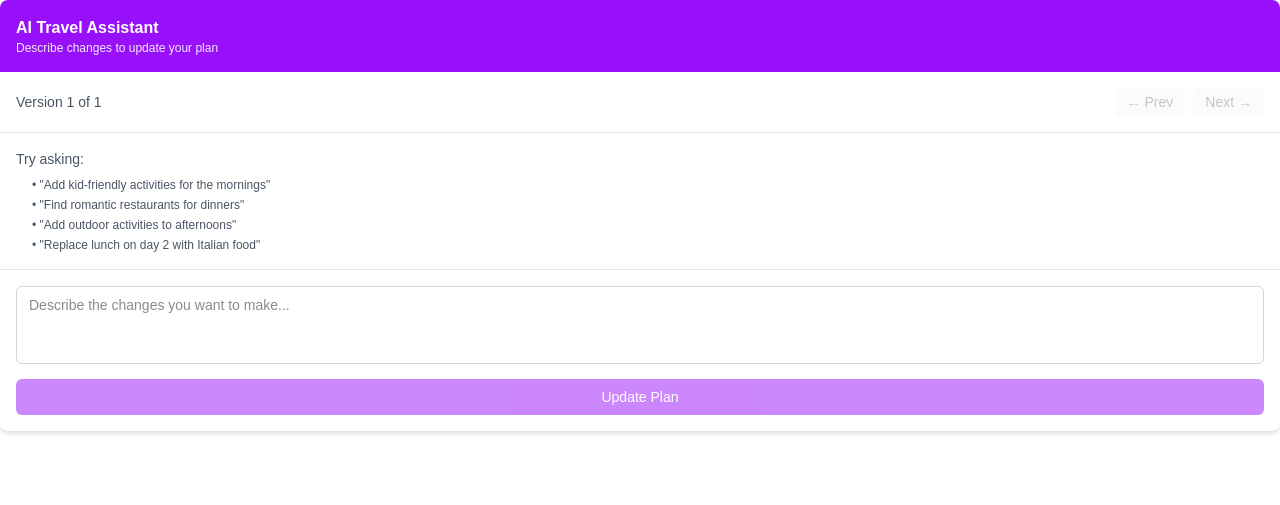
PlanModifier › submits modification request and shows success summary
The width and height of the screenshot is (1280, 505).
Step 1. Type "Add kid-friendly activities to mornings" into the text box with placeholder "Describe the changes you want to make..." → (640, 325), box [16, 286, 1264, 364]
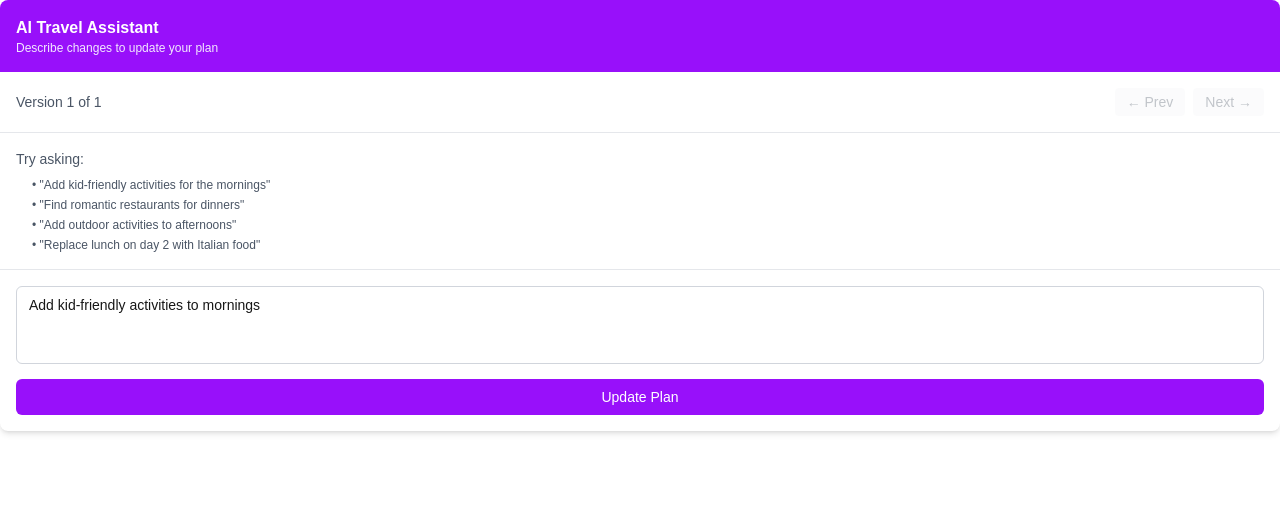
Step 2. Click the button "Update Plan" → (640, 397), box [16, 379, 1264, 415]
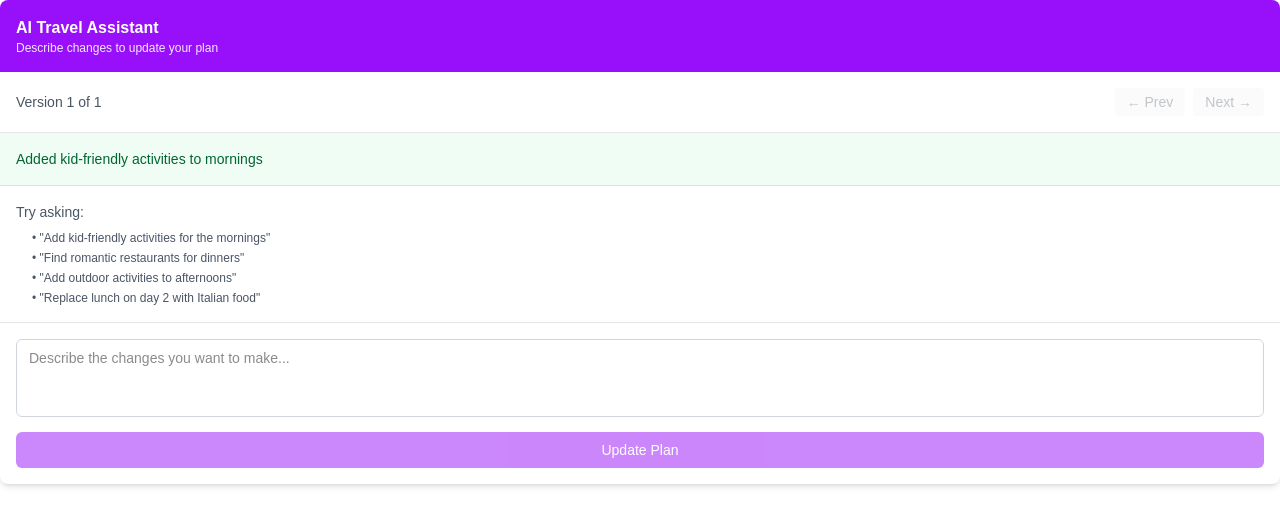
Check: the text "Added kid-friendly activities to mornings" is shown, box [16, 151, 263, 167]
